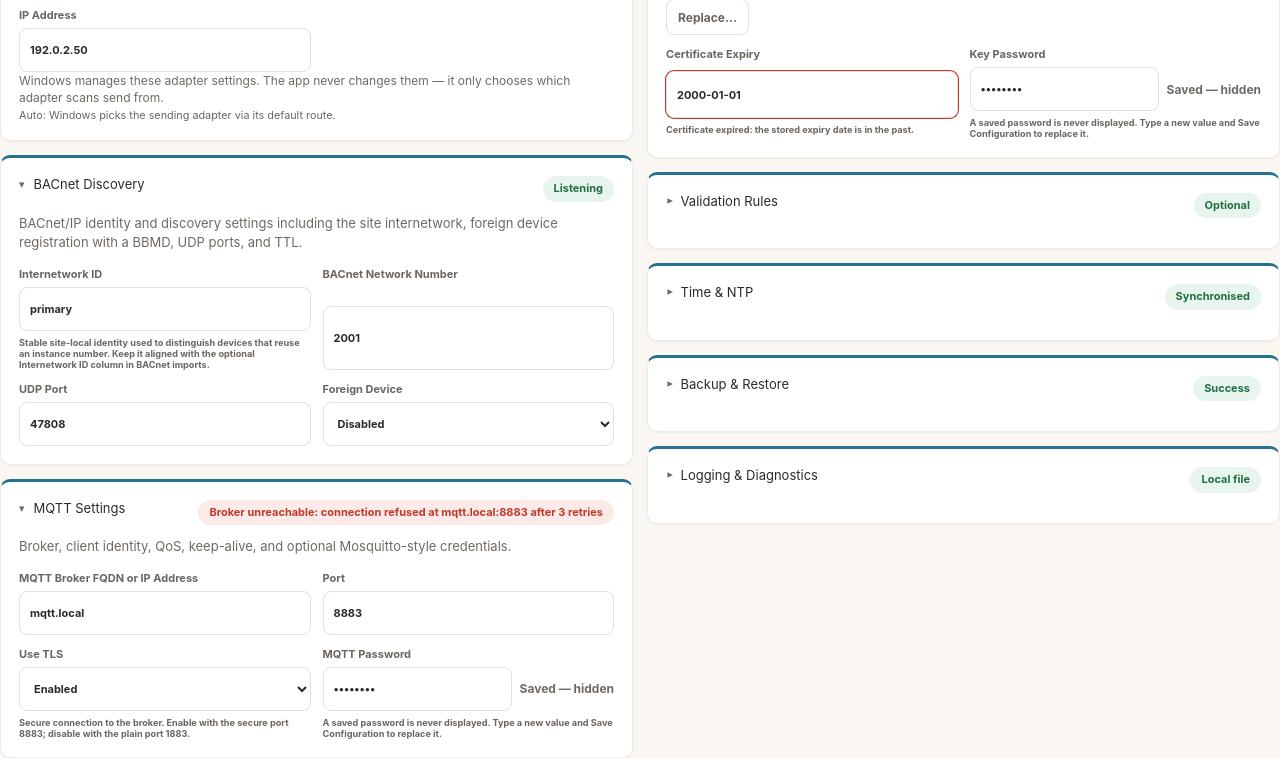
Test: ConfigurationPage › renders an honest error panel when the upload endpoint does not respond
The width and height of the screenshot is (1280, 758).
(page scrolled)
Click the button "▾ Logging & Diagnostics Local file".
click(749, 475)  # box [666, 467, 1261, 493]
(page scrolled)
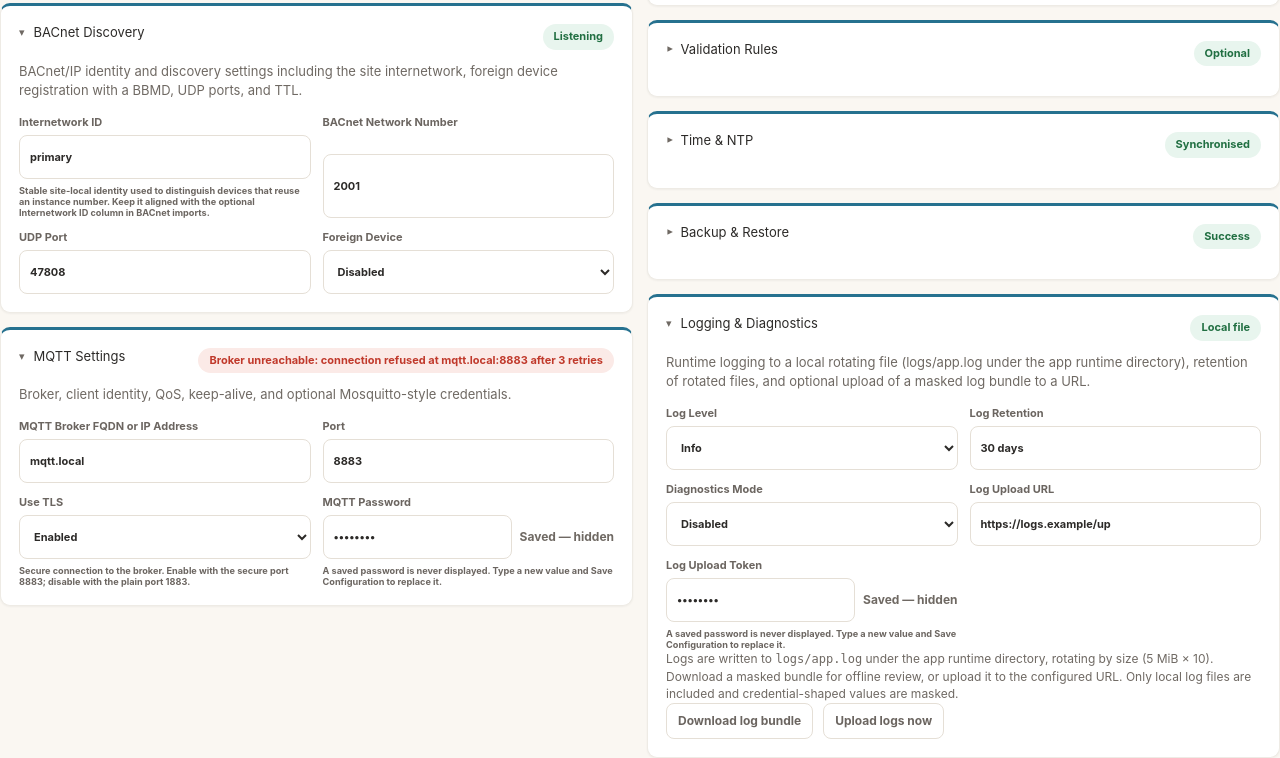
Click the button "Upload logs now".
click(884, 721)  # box [823, 703, 944, 739]
(page scrolled)
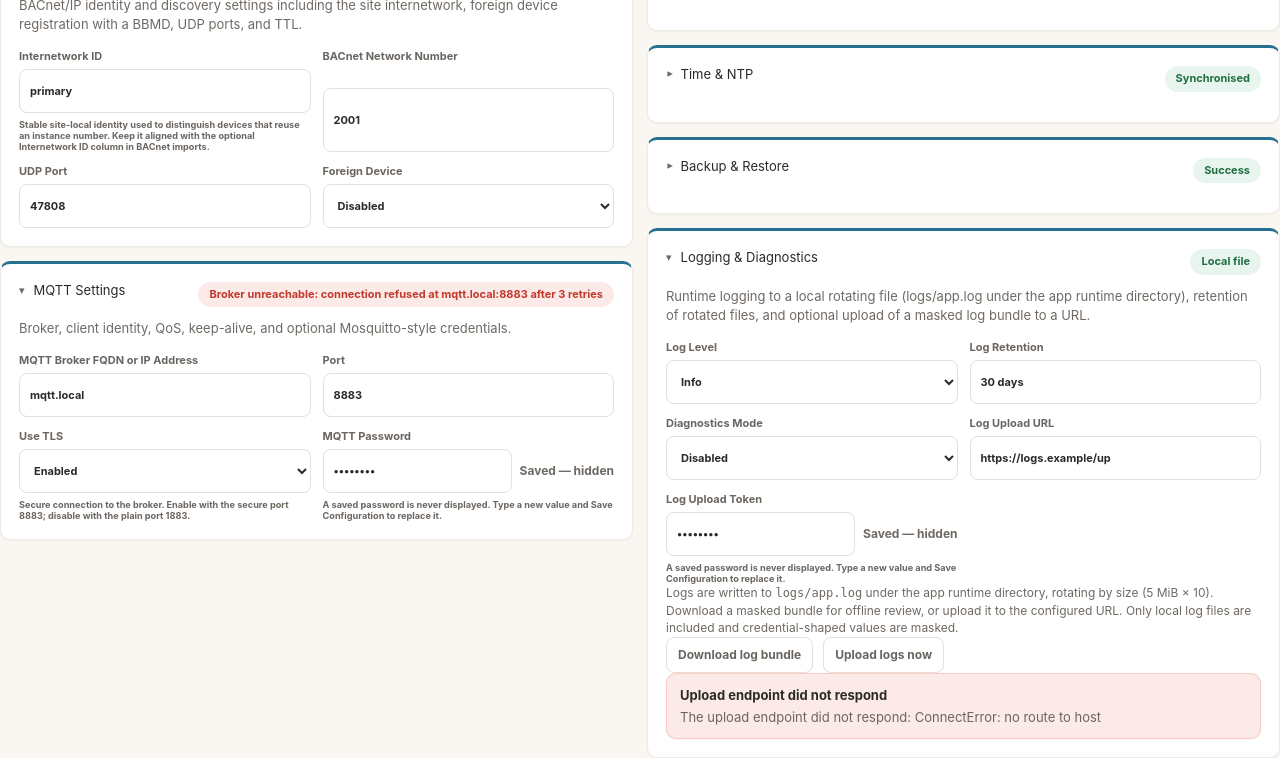
Now the text "The upload endpoint did not respond:" is shown, box [680, 709, 915, 725]
